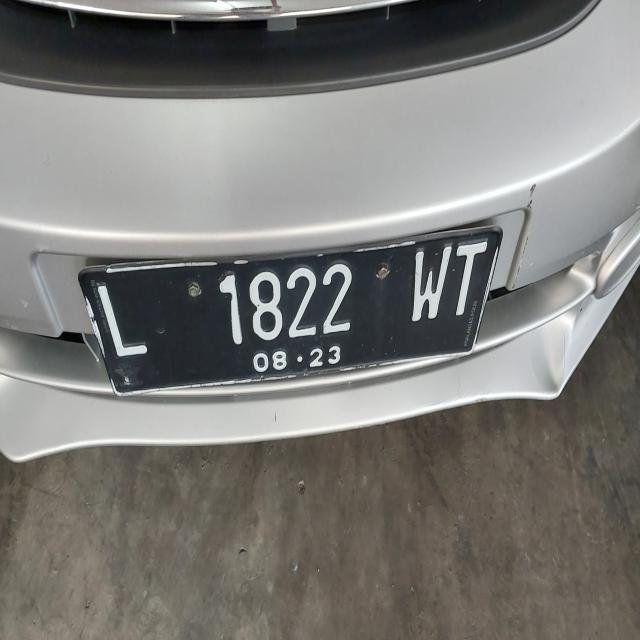1: (212, 272, 247, 354)
2: (282, 262, 319, 351), (320, 260, 358, 338)
8: (243, 266, 286, 352)
L: (90, 280, 154, 374)
T: (452, 234, 489, 342)
W: (406, 240, 453, 331)
